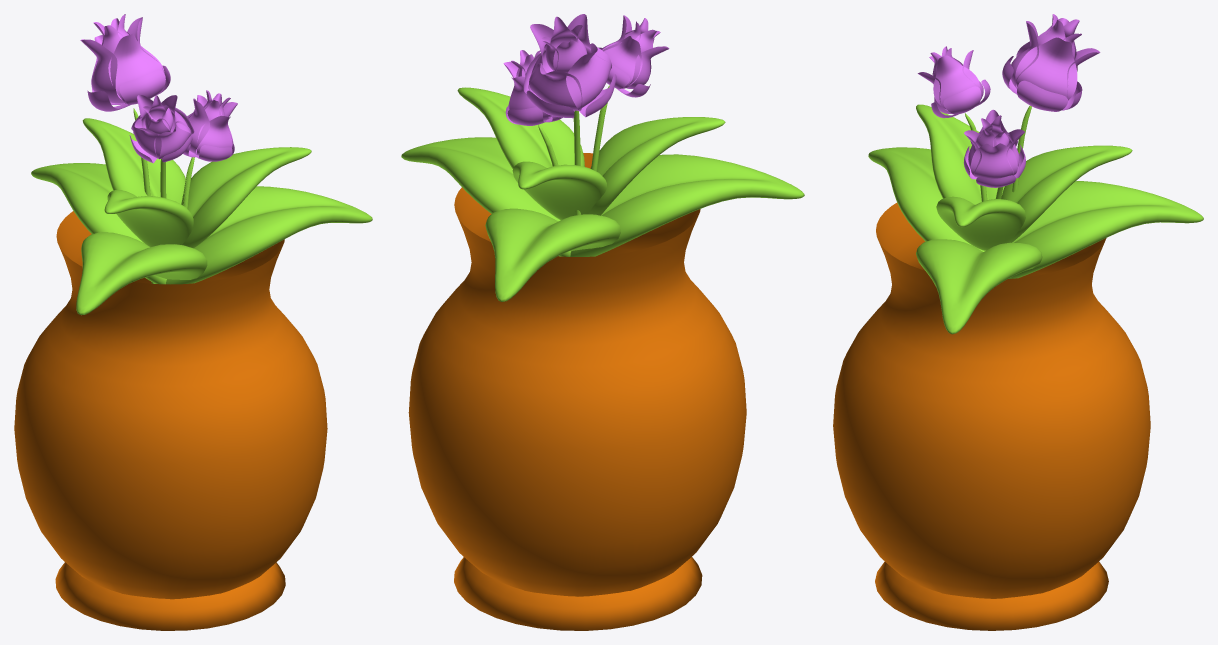
Rendered from plantblend.fbx.
3 renders of one model, left to right at view 1: azimuth 30°, elevation 25°; view 2: azimuth 150°, elevation 25°; view 3: azimuth 270°, elevation 25°, orthographic. The views are drawn at different scales.
Visible parts, largest first — view 1: Plane.001; view 2: Plane.001; view 3: Plane.001.
Part boxes in pixels (<box>): Plane.001: <box>14,14,372,630</box>; Plane.001: <box>401,14,804,630</box>; Plane.001: <box>833,14,1203,630</box>.
Bounding box in the file's own units: 223 × 350 × 212.
